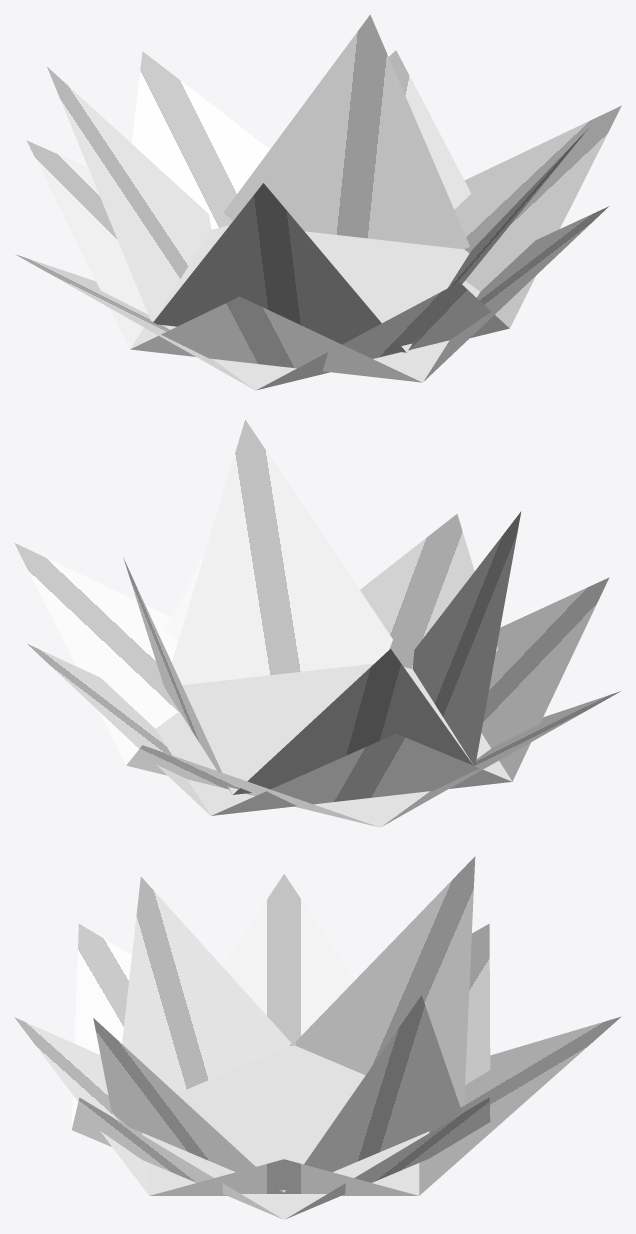
The model's file is lotus.gltf.
The picture shows the model from 3 angles, top to bottom: view 1: azimuth 30°, elevation 25°; view 2: azimuth 150°, elevation 25°; view 3: azimuth 270°, elevation 25°; orthographic projection. The views are drawn at different scales.
Parts seen in each view (by area): view 1: plane (×3); view 2: plane (×3); view 3: plane (×3).
Part boxes in pixels (bbox=[...]): plane (×3): bbox=[15, 14, 621, 390]; plane (×3): bbox=[14, 419, 620, 827]; plane (×3): bbox=[14, 856, 621, 1219].
Size of the model in its own units: 0.3125 by 0.1031 by 0.2812.
Materials: 1 (1 with a texture image).
